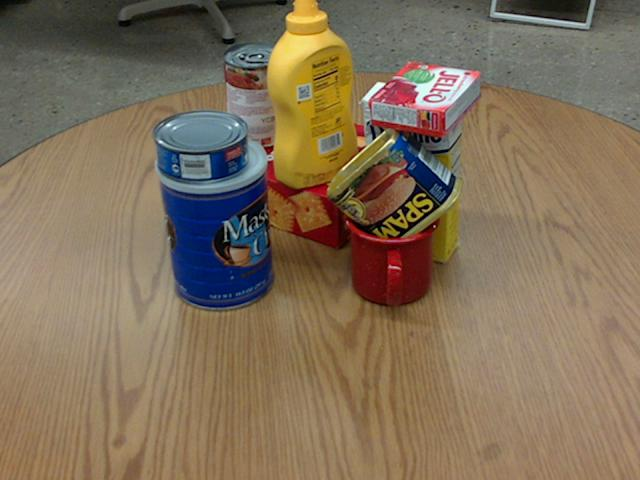cracker_box: (179, 99, 410, 248)
gelatin_box: (369, 61, 481, 137)
large_marker: (181, 132, 209, 236)
master_chef_can: (153, 131, 275, 309)
mug: (344, 193, 442, 307)
mustard_bottle: (267, 0, 358, 188)
potted_meat_can: (325, 123, 462, 256)
sugar_box: (362, 81, 463, 265)
tomato_soup_can: (221, 42, 285, 149)
tuna_fish_can: (151, 109, 248, 181)
